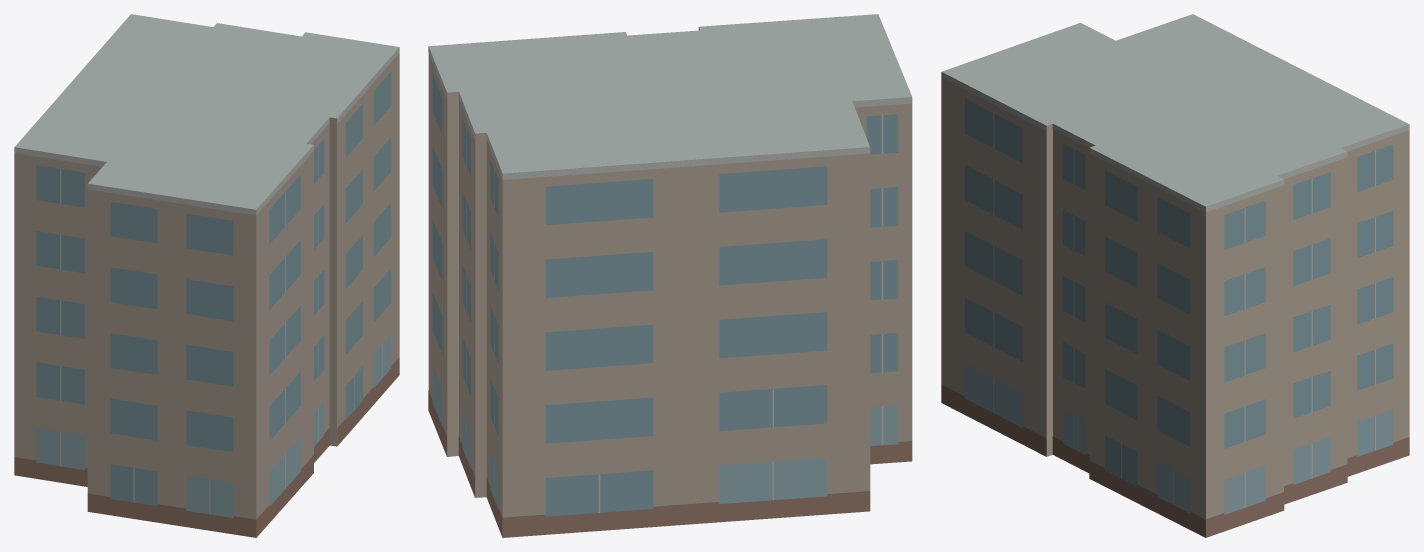
The model's file is survey-upis-32774490.glb.
The picture shows the model from 3 angles, left to right: view 1: azimuth 30°, elevation 25°; view 2: azimuth 150°, elevation 25°; view 3: azimuth 270°, elevation 25°; orthographic projection. The views are drawn at different scales.
Visible parts, largest first — view 1: survey-upis-32774490.tmp; view 2: survey-upis-32774490.tmp; view 3: survey-upis-32774490.tmp.
Part boxes in pixels (x1,y1,x2,y2): survey-upis-32774490.tmp: (14, 14, 399, 537); survey-upis-32774490.tmp: (428, 14, 912, 537); survey-upis-32774490.tmp: (941, 14, 1409, 537).
Size of the model in its own units: 17.42 by 13.95 by 17.88.
